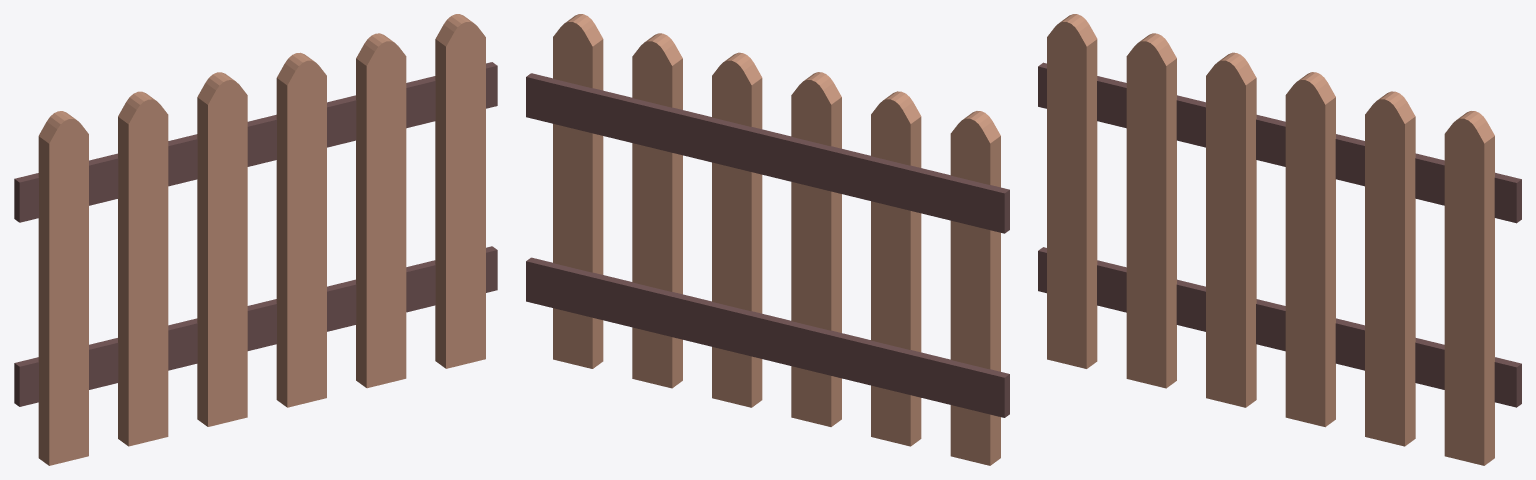
The model's file is Fence00.fbx.
The picture shows the model from 3 angles, left to right: view 1: azimuth 30°, elevation 25°; view 2: azimuth 150°, elevation 25°; view 3: azimuth 330°, elevation 25°; orthographic projection.
Visible parts, largest first — view 1: Cube.002; view 2: Cube.002; view 3: Cube.002.
Part boxes in pixels (box(x1,y1,x2,y2)): Cube.002: box(14, 14, 497, 465); Cube.002: box(526, 14, 1009, 465); Cube.002: box(1038, 14, 1521, 465).
Bounding box in the file's own units: 23.22 × 15.87 × 1.32.
